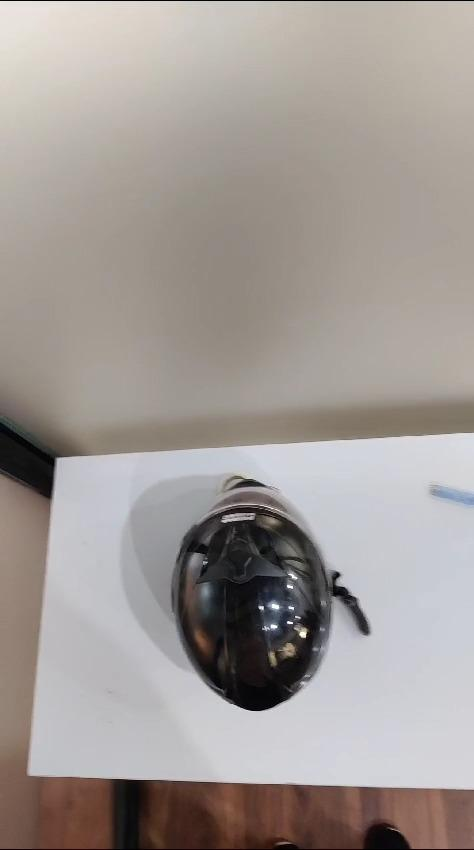Helmet: (172, 475, 369, 711)
